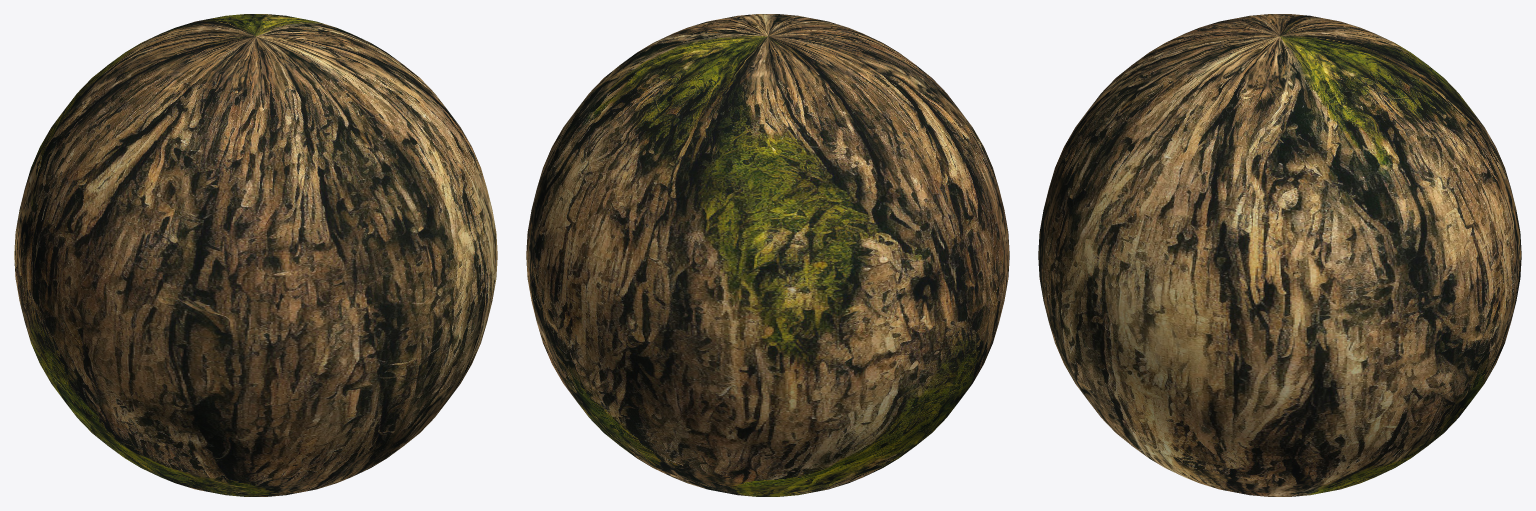
The model's file is KugelFBX.fbx.
3 renders of one model, left to right at view 1: azimuth 30°, elevation 25°; view 2: azimuth 150°, elevation 25°; view 3: azimuth 270°, elevation 25°, orthographic.
Visible parts, largest first — view 1: Sphere; view 2: Sphere; view 3: Sphere.
Boxes of the visible parts, <box> form: Sphere: <box>14,14,497,496</box>; Sphere: <box>526,14,1009,496</box>; Sphere: <box>1038,14,1521,496</box>.
Size of the model in its own units: 199 by 200 by 200.
